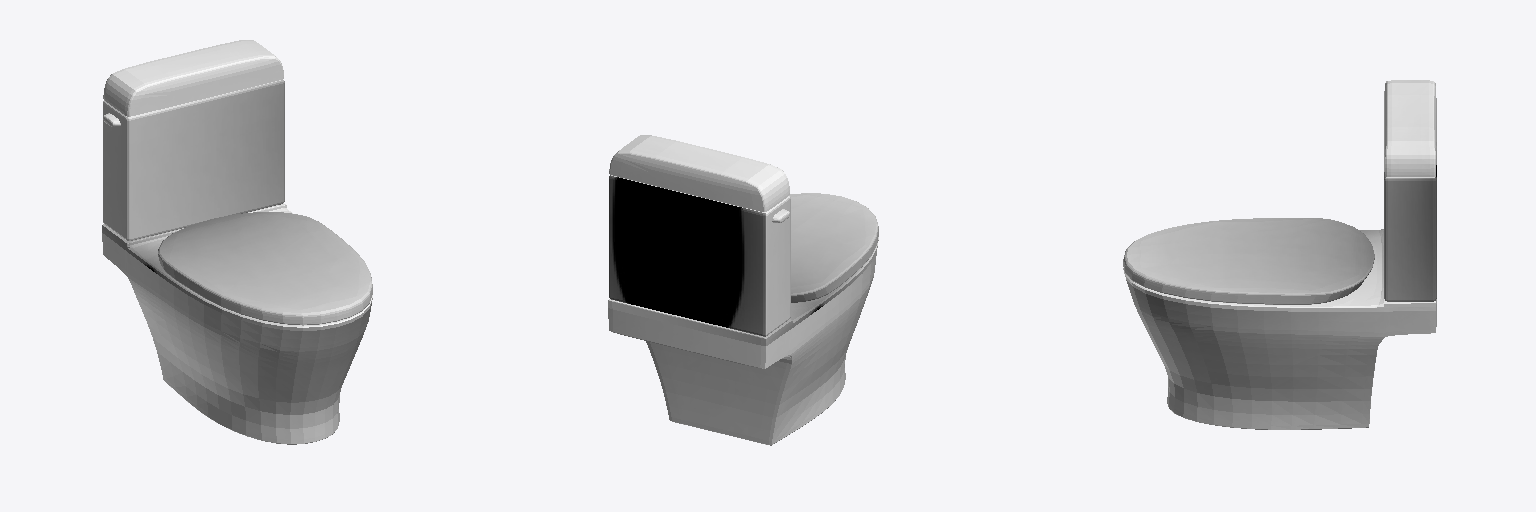
3 renders of one model, left to right at view 1: azimuth 30°, elevation 25°; view 2: azimuth 150°, elevation 25°; view 3: azimuth 270°, elevation 25°, orthographic.
Visible parts, largest first — view 1: �__�__�__�__�___004; view 2: �__�__�__�__�___004; view 3: �__�__�__�__�___004.
Part boxes in pixels (left/top/right/bottom): �__�__�__�__�___004: left=102, top=40, right=372, bottom=444; �__�__�__�__�___004: left=608, top=135, right=878, bottom=445; �__�__�__�__�___004: left=1123, top=80, right=1436, bottom=429.
Size of the model in its own units: 0.4182 by 0.7005 by 0.6805.
1 materials, 1 textured.